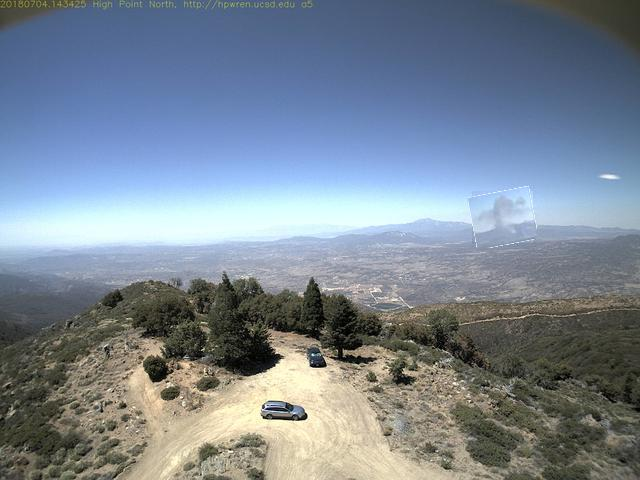smoke: (471, 190, 537, 248)
